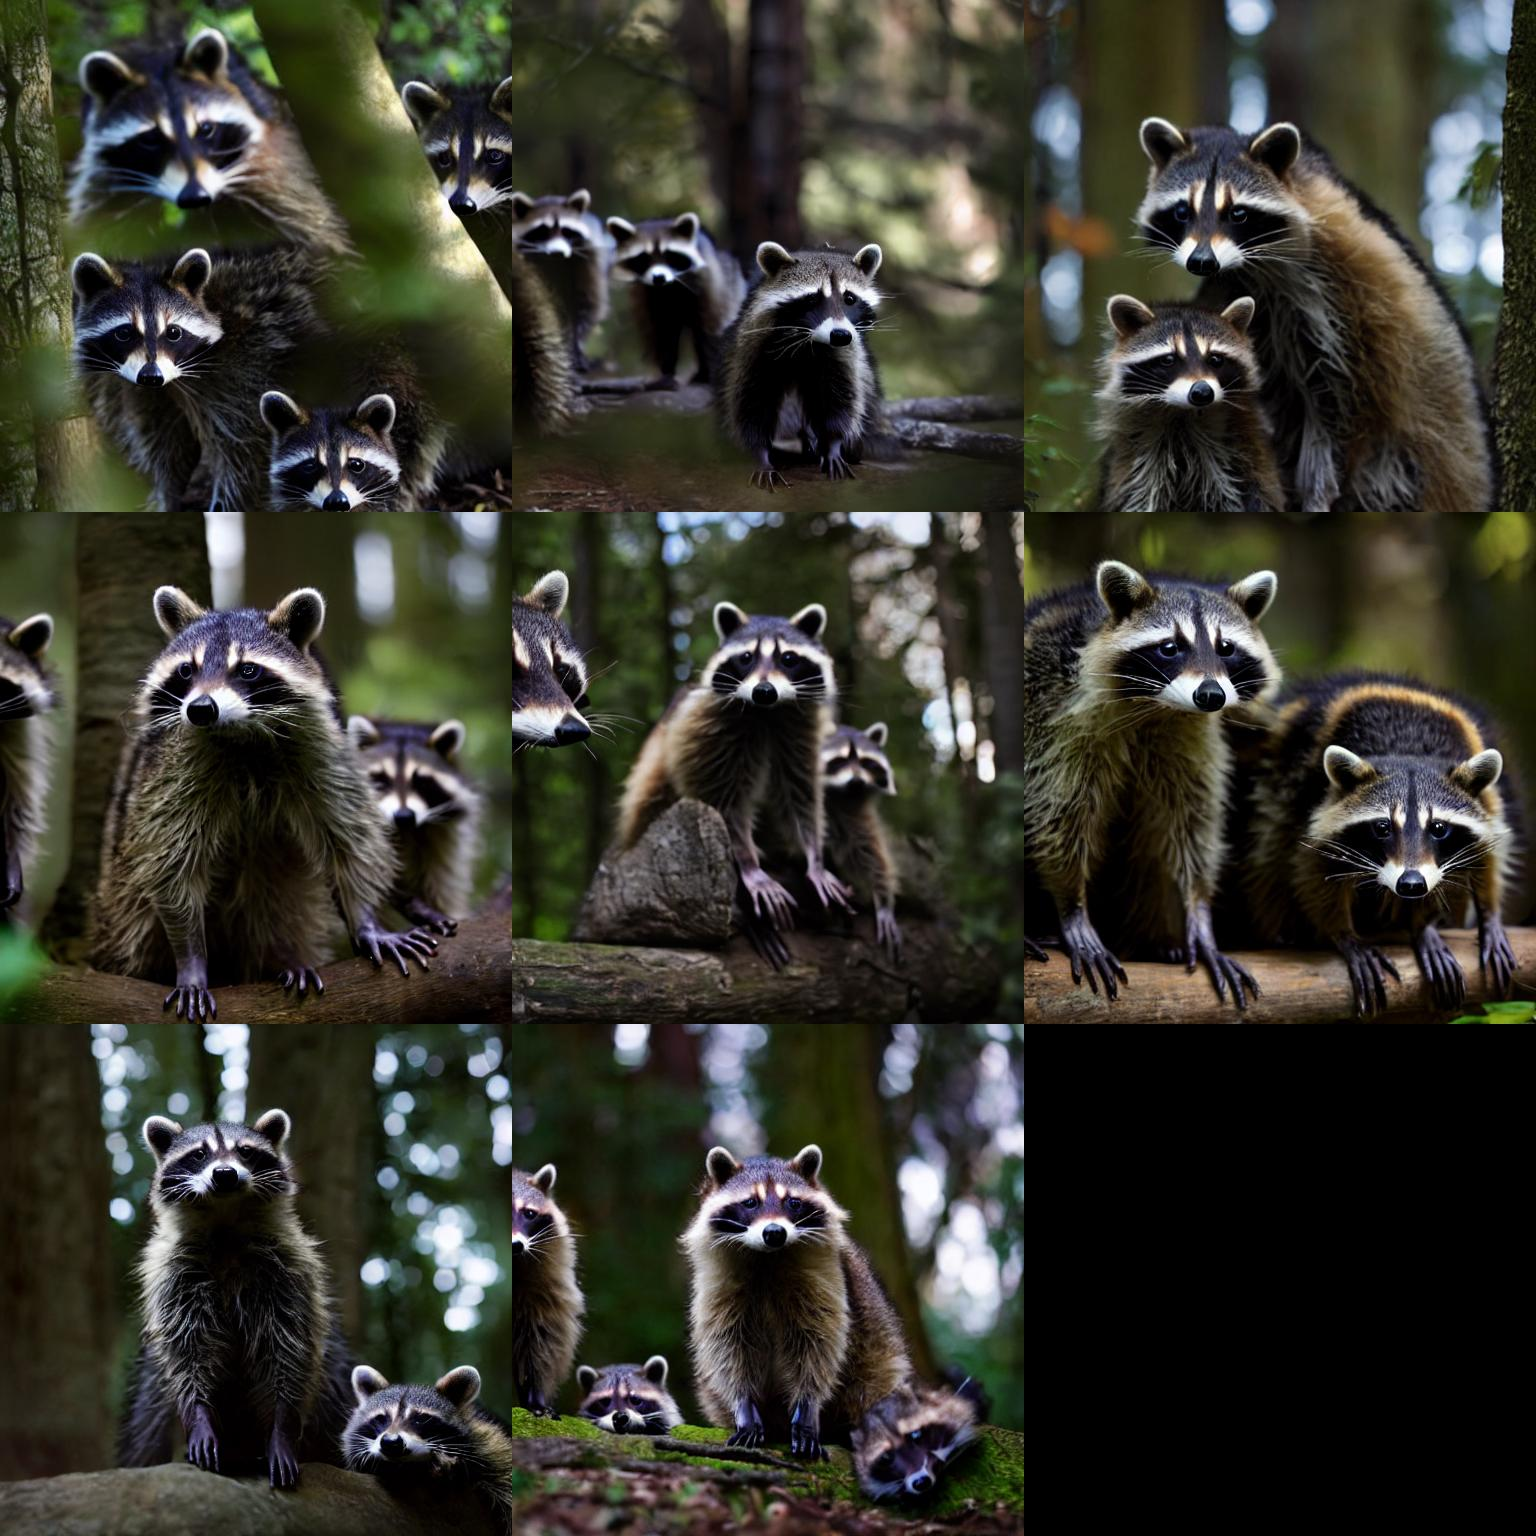raccoon: (1122, 108, 1501, 512), (83, 575, 387, 965), (1027, 546, 1303, 920), (65, 14, 350, 328), (124, 1096, 343, 1457), (664, 1134, 907, 1442), (1277, 668, 1526, 934), (617, 587, 844, 834), (65, 249, 263, 505), (1070, 286, 1266, 512), (724, 231, 897, 456), (349, 713, 484, 937), (257, 383, 463, 509), (608, 208, 755, 369), (387, 65, 512, 250), (0, 596, 70, 916), (512, 556, 617, 768), (338, 1356, 505, 1485), (819, 708, 926, 907), (512, 1156, 589, 1408), (513, 183, 613, 345), (574, 1342, 691, 1440)
